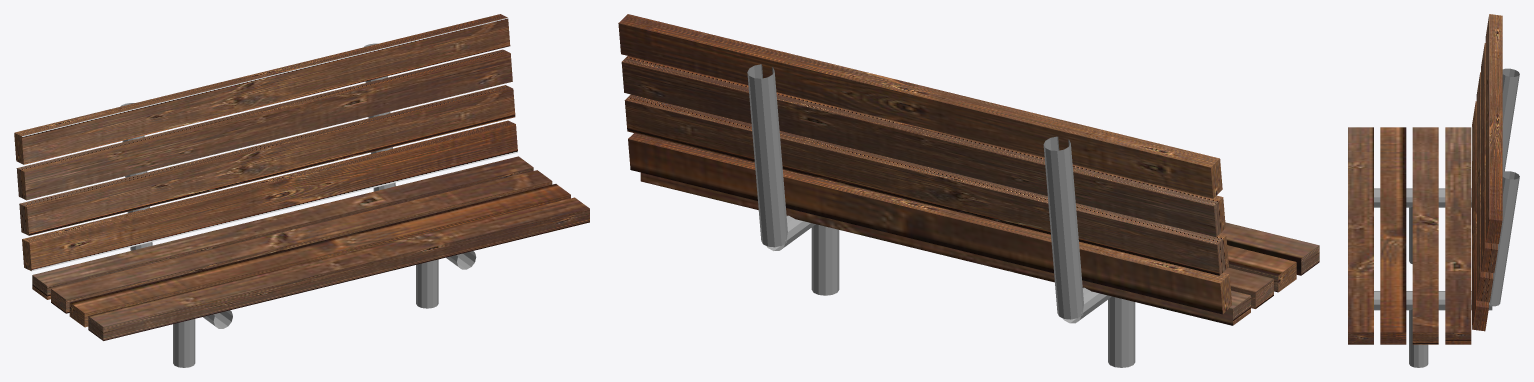
The model's file is bench.fbx.
3 views of the same model, side by side, from view 1: azimuth 30°, elevation 25°; view 2: azimuth 150°, elevation 25°; view 3: azimuth 270°, elevation 25° (orthographic). The views are drawn at different scales.
Visible parts, largest first — view 1: pCube7, pCube5, pCube6, pCube8, pCube1, pCube2, pCube4, pCube3, pCylinder9, pCylinder8; view 2: pCube5, pCube7, pCube6, pCube8, pCube4, pCylinder1, pCylinder11, pCube1, pCylinder9, pCylinder8, pCube2, pCube3; view 3: pCube2, pCube3, pCube4, pCube1, pCube5, pCylinder11, pCube7, pCube6, pCube8, pCylinder1, pCylinder9, pCylinder10 (+2 smaller).
Boxes of the visible parts, x1,y1,x2,y2 form: pCube7: (19,85,515,235); pCube5: (14,14,510,164); pCube6: (16,49,512,200); pCube8: (22,120,517,271); pCube1: (88,197,589,340); pCube2: (69,184,570,327); pCube4: (32,156,533,299); pCube3: (51,170,552,313); pCylinder9: (416,259,438,308); pCylinder8: (173,319,195,367); pCube5: (618,14,1222,198); pCube7: (624,94,1228,275); pCube6: (621,56,1225,237); pCube8: (628,133,1231,314); pCube4: (640,172,1250,325); pCylinder1: (1043,136,1083,319); pCylinder11: (747,64,787,247); pCube1: (1220,222,1319,275); pCylinder9: (811,224,839,295); pCylinder8: (1108,296,1135,367); pCube2: (1227,245,1296,292); pCube3: (1223,267,1273,308); pCube2: (1380,127,1406,344); pCube3: (1412,127,1438,344); pCube4: (1445,127,1471,344); pCube1: (1348,127,1373,344); pCube5: (1485,14,1502,243); pCylinder11: (1489,171,1519,306); pCube7: (1476,72,1493,302); pCube6: (1481,43,1497,272); pCube8: (1472,101,1488,331); pCylinder1: (1502,68,1519,171); pCylinder9: (1409,309,1428,367); pCylinder10: (1374,291,1492,310).
Bounding box in the file's own units: 30 × 13.36 × 10.62.
Materials: 2 (1 with a texture image).
